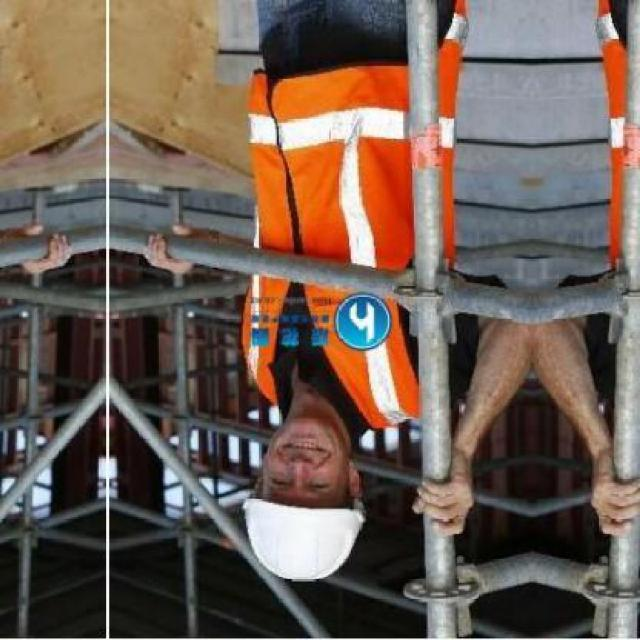safetyhelmet: (233, 421, 373, 584)
